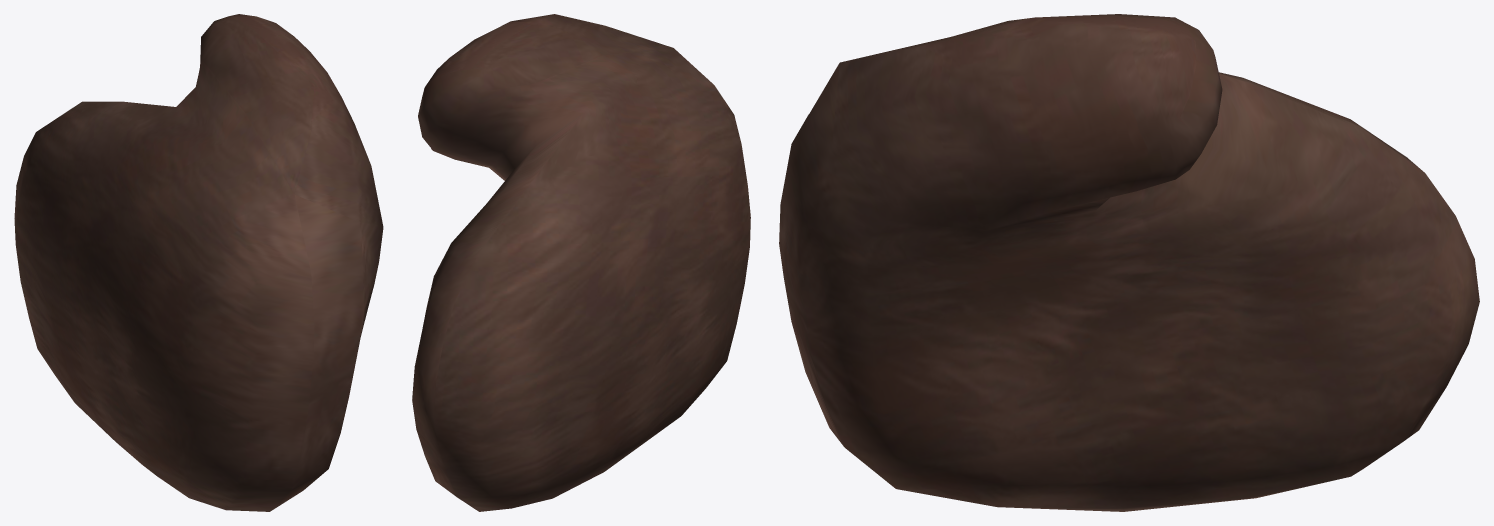
The model's file is avatar3-hand-left.glb.
3 renders of one model, left to right at view 1: azimuth 30°, elevation 25°; view 2: azimuth 150°, elevation 25°; view 3: azimuth 270°, elevation 25°, orthographic. The views are drawn at different scales.
Visible parts, largest first — view 1: hand-left; view 2: hand-left; view 3: hand-left.
Part boxes in pixels (<box>): hand-left: <box>14,14,383,511</box>; hand-left: <box>412,14,750,511</box>; hand-left: <box>779,14,1479,511</box>.
Bounding box in the file's own units: 0.1431 × 0.2551 × 0.2981.
1 material, 1 textured.
